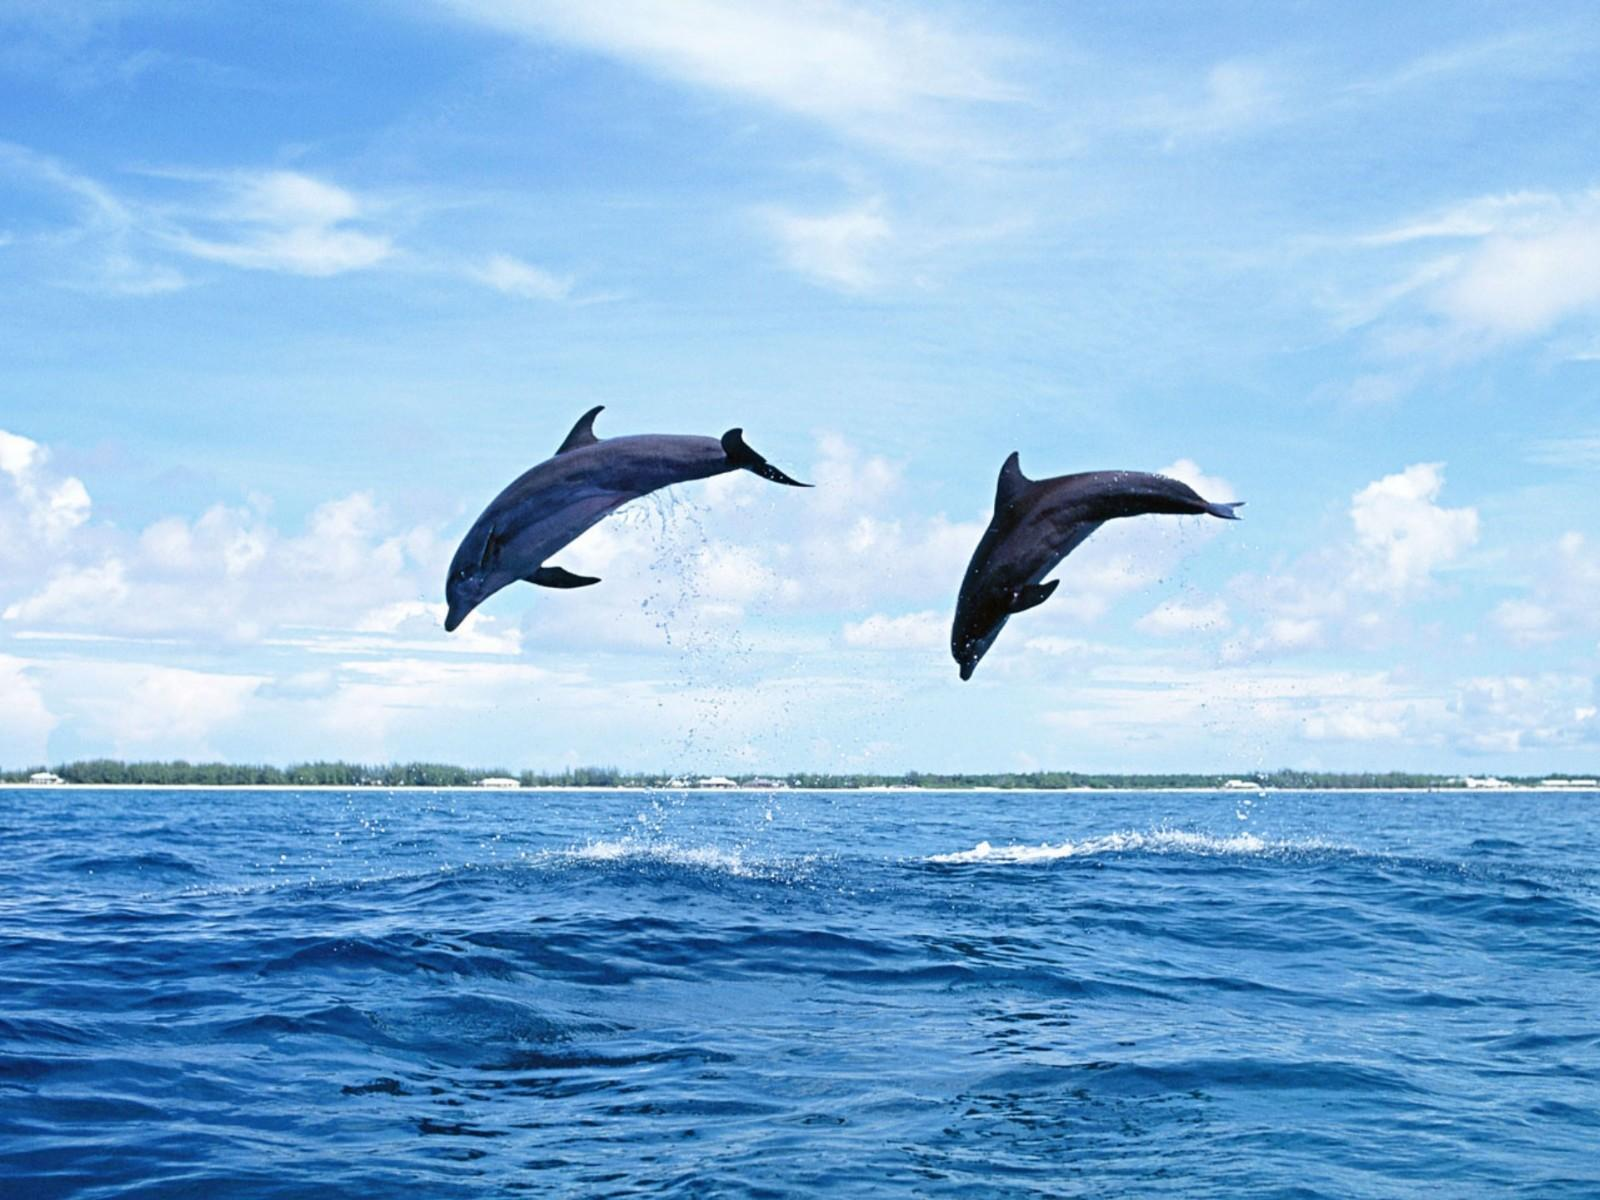fish: (440, 407, 816, 637), (950, 453, 1247, 683)
